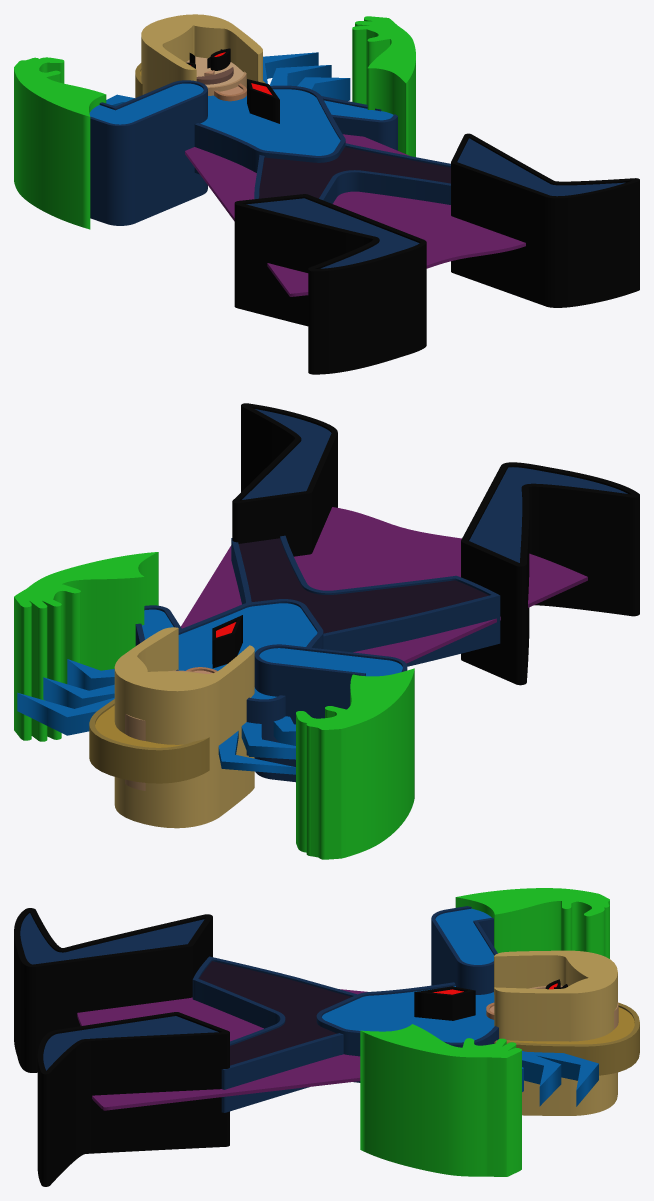
The model's file is emoji_u1f9b9_1f3fc_200d_2640.glb.
The picture shows the model from 3 angles, top to bottom: view 1: azimuth 30°, elevation 25°; view 2: azimuth 150°, elevation 25°; view 3: azimuth 270°, elevation 25°; orthographic projection. The views are drawn at different scales.
Visible parts, largest first — view 1: emoji_u1f9b9_1f3fc_200d_2640; view 2: emoji_u1f9b9_1f3fc_200d_2640; view 3: emoji_u1f9b9_1f3fc_200d_2640.
Part boxes in pixels (x1,y1,x2,y2): emoji_u1f9b9_1f3fc_200d_2640: (14,14,639,374); emoji_u1f9b9_1f3fc_200d_2640: (14,403,639,859); emoji_u1f9b9_1f3fc_200d_2640: (14,888,639,1186).
Size of the model in its own units: 0.0239 by 0.0074 by 0.0343.
